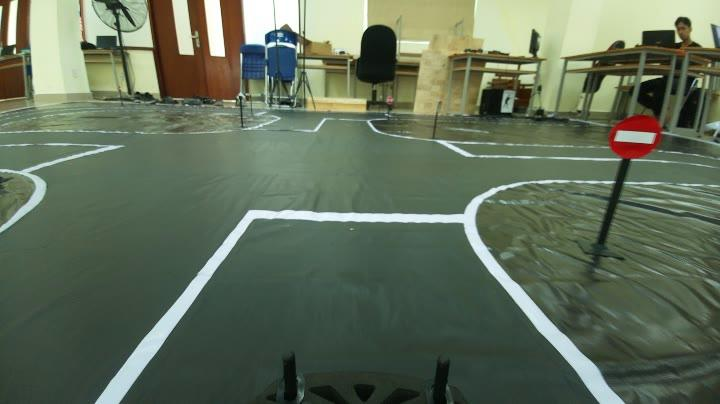no_entry: (604, 110, 674, 170)
